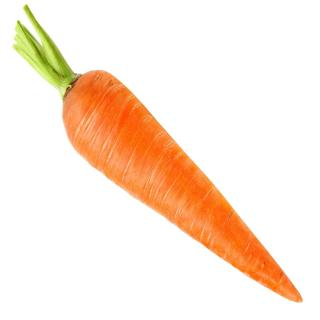Wortel: (7, 2, 316, 312)
